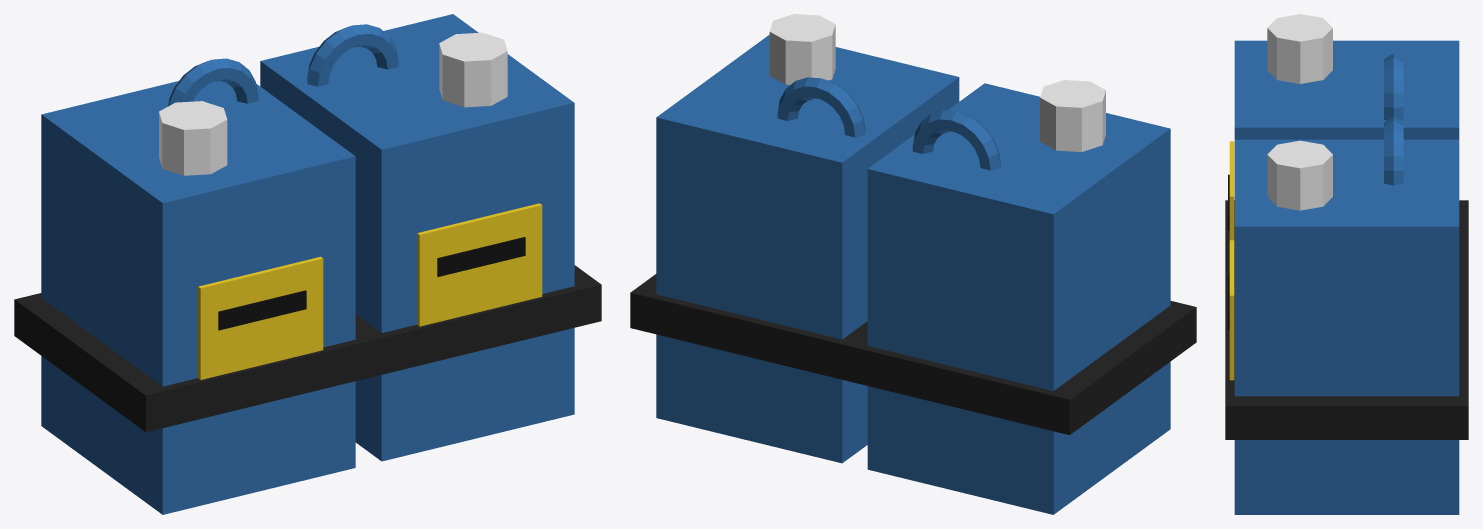
File: fertilizer_jugs.glb
3 views of the same model, side by side, from view 1: azimuth 30°, elevation 25°; view 2: azimuth 150°, elevation 25°; view 3: azimuth 270°, elevation 25° (orthographic). The views are drawn at different scales.
Visible parts, largest first — view 1: jugs_jug_blue, strap_strap_black, labels_lab_label (×2), caps_cap_white (×2), handles_jug_blue, labels_label_black (×2); view 2: jugs_jug_blue, strap_strap_black, caps_cap_white (×2), handles_jug_blue; view 3: jugs_jug_blue, strap_strap_black, caps_cap_white (×2), handles_jug_blue, labels_lab_label (×2).
Part boxes in pixels (x1,y1,x2,y2): jugs_jug_blue: (41, 14, 574, 514); strap_strap_black: (14, 265, 601, 432); labels_lab_label (×2): (198, 203, 542, 379); caps_cap_white (×2): (159, 32, 507, 175); handles_jug_blue: (168, 24, 398, 106); labels_label_black (×2): (218, 237, 525, 330); jugs_jug_blue: (656, 35, 1170, 514); strap_strap_black: (630, 274, 1196, 435); caps_cap_white (×2): (769, 14, 1105, 151); handles_jug_blue: (777, 77, 1000, 170); jugs_jug_blue: (1234, 40, 1459, 514); strap_strap_black: (1225, 200, 1468, 439); caps_cap_white (×2): (1267, 14, 1332, 210); handles_jug_blue: (1384, 53, 1403, 185); labels_lab_label (×2): (1229, 141, 1234, 380).
Bounding box in the file's own units: 0.52 × 0.392 × 0.26.
